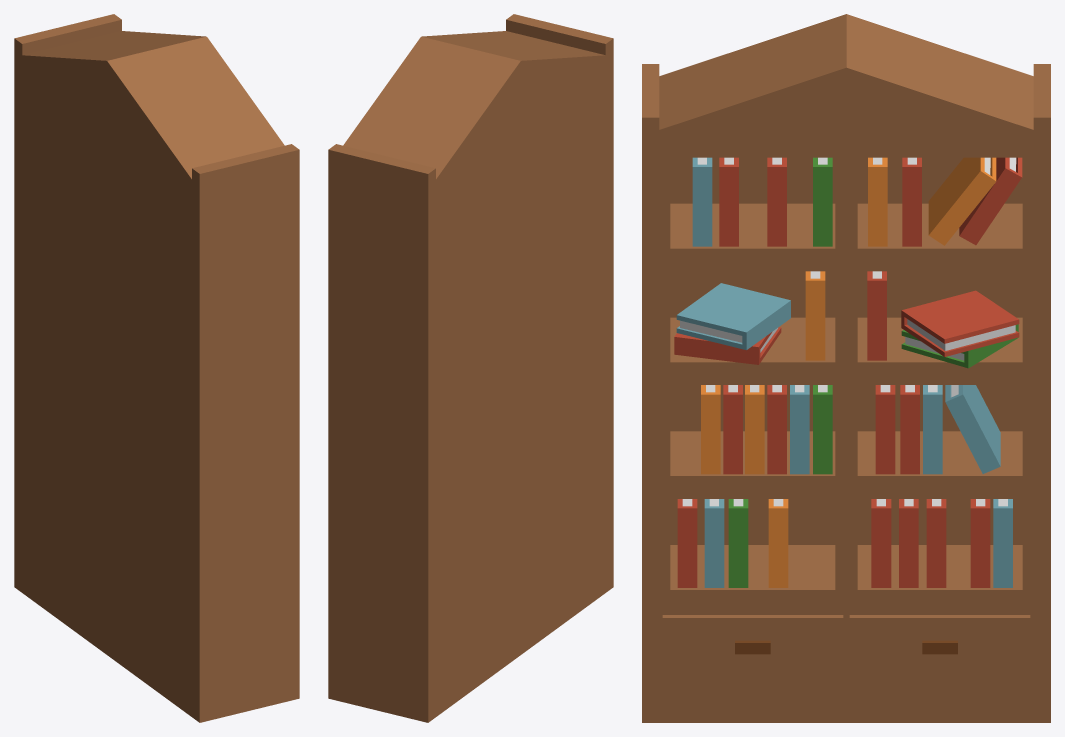
File: sm_BookShelf.fbx
3 views of the same model, side by side, from view 1: azimuth 30°, elevation 25°; view 2: azimuth 150°, elevation 25°; view 3: azimuth 270°, elevation 25° (orthographic). The views are drawn at different scales.
Parts seen in each view (by area): view 1: Cube.014; view 2: Cube.014; view 3: Cube.014.
Boxes of the visible parts, x1,y1,x2,y2 form: Cube.014: [14, 14, 299, 722]; Cube.014: [328, 14, 613, 722]; Cube.014: [642, 14, 1050, 722].
Bounding box in the file's own units: 45.84 × 211 × 119.
